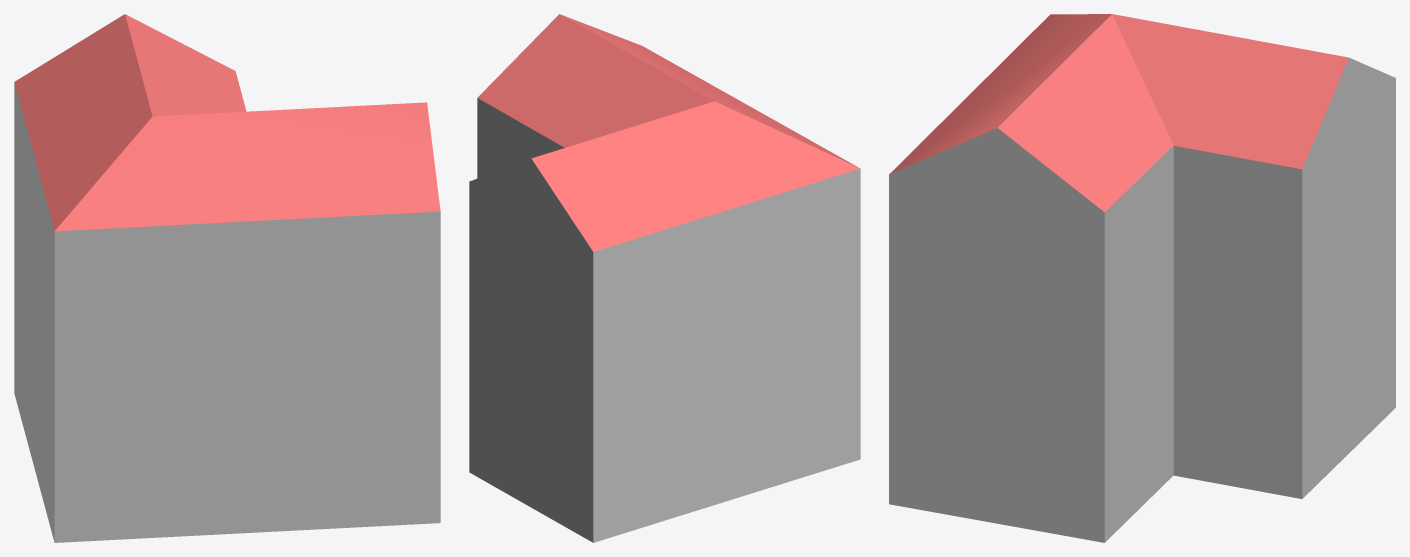
File: DEBY_LOD2_4907223.gltf
The picture shows the model from 3 angles, left to right: view 1: azimuth 30°, elevation 25°; view 2: azimuth 150°, elevation 25°; view 3: azimuth 270°, elevation 25°; orthographic projection. The views are drawn at different scales.
Parts seen in each view (by area): view 1: Z_UP; view 2: Z_UP; view 3: Z_UP.
Part boxes in pixels (x1=…): Z_UP: x1=14, y1=14, x2=440, y2=542; Z_UP: x1=469, y1=14, x2=860, y2=542; Z_UP: x1=889, y1=14, x2=1395, y2=542.
Bounding box in the file's own units: 23.78 × 22.09 × 25.62.
